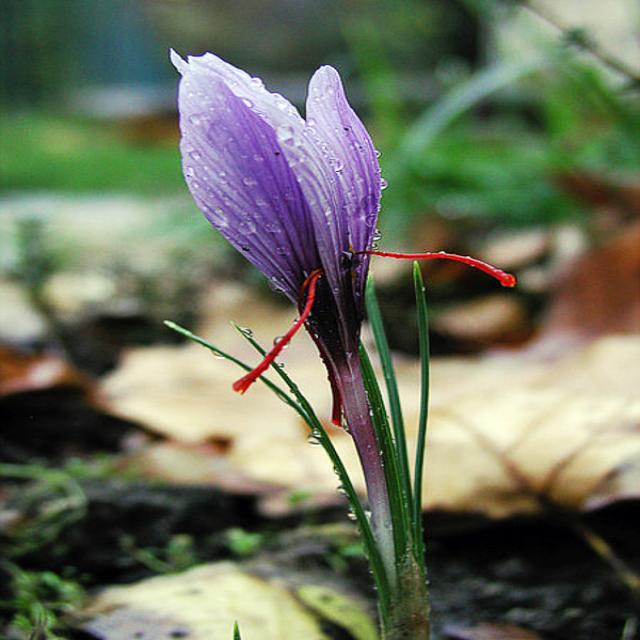saffron open: (172, 52, 395, 572)
